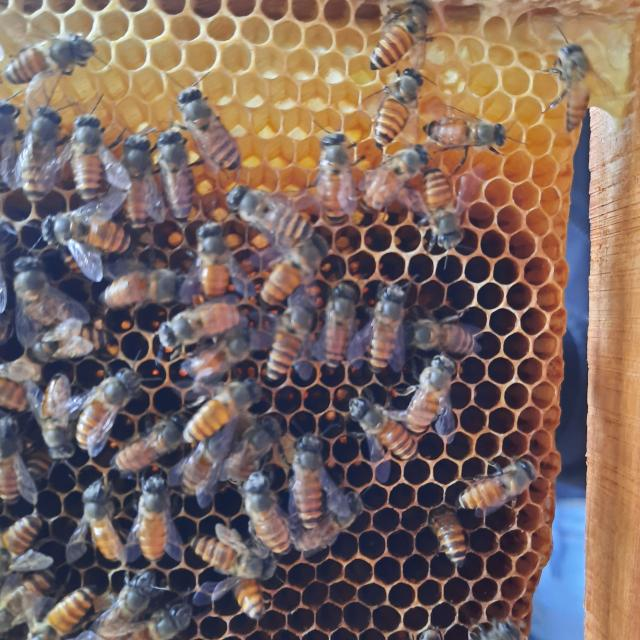honeybee: (33, 191, 124, 265), (238, 178, 323, 255), (397, 366, 468, 456), (284, 416, 339, 530), (182, 81, 253, 166), (531, 37, 598, 126), (334, 392, 412, 467), (10, 36, 94, 105), (243, 456, 297, 559), (61, 372, 127, 456), (130, 467, 195, 552), (179, 367, 259, 436), (417, 158, 479, 246), (101, 266, 204, 318), (300, 130, 362, 216), (183, 413, 260, 482), (367, 64, 433, 144), (161, 300, 271, 345), (278, 286, 323, 394), (76, 472, 130, 562), (457, 454, 556, 502), (428, 99, 502, 163), (374, 3, 450, 65), (1, 563, 60, 640), (318, 274, 363, 372), (158, 138, 201, 232), (201, 531, 293, 573), (24, 265, 76, 339), (0, 507, 62, 568), (395, 316, 469, 366), (115, 402, 191, 447), (34, 377, 74, 457), (140, 606, 232, 640), (373, 288, 408, 374), (194, 213, 238, 280), (269, 240, 327, 290), (112, 135, 148, 213), (47, 587, 98, 640), (420, 498, 465, 558), (384, 135, 418, 210), (18, 107, 56, 170), (111, 581, 173, 617), (70, 112, 98, 186), (232, 578, 265, 612)
